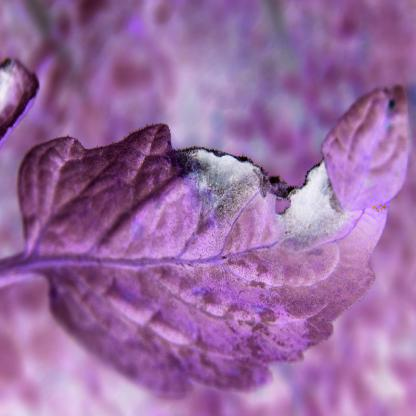Tomato leaf late blight: (16, 109, 402, 405)
